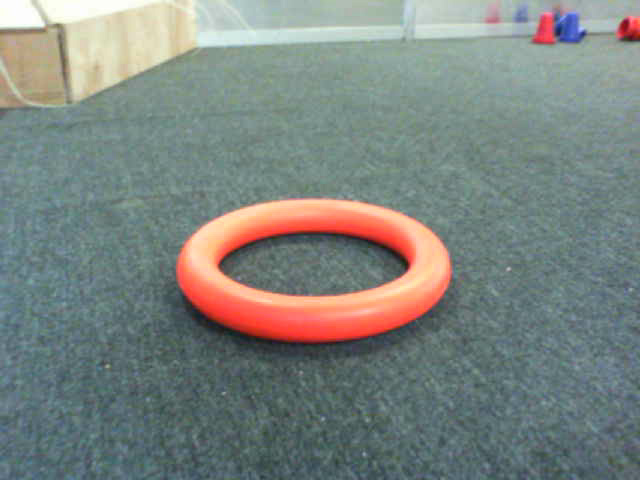Note: (183, 203, 458, 353)
